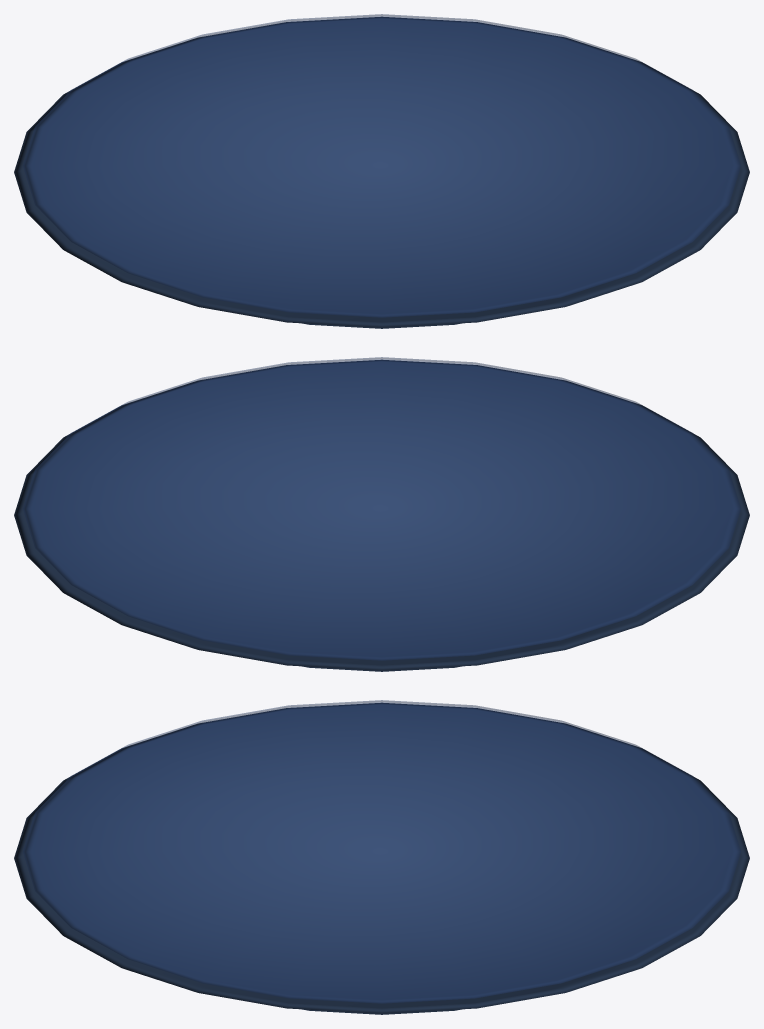
File: pond_water.glb
The picture shows the model from 3 angles, top to bottom: view 1: azimuth 30°, elevation 25°; view 2: azimuth 150°, elevation 25°; view 3: azimuth 270°, elevation 25°; orthographic projection.
Visible parts, largest first — view 1: pond_water; view 2: pond_water; view 3: pond_water.
Boxes of the visible parts, x1,y1,x2,y2 form: pond_water: [14, 14, 749, 328]; pond_water: [14, 357, 749, 671]; pond_water: [14, 700, 749, 1014].
Bounding box in the file's own units: 4.2 × 0.38 × 4.2.
